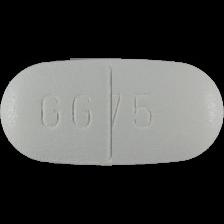21695-544: (0, 0, 224, 224)
